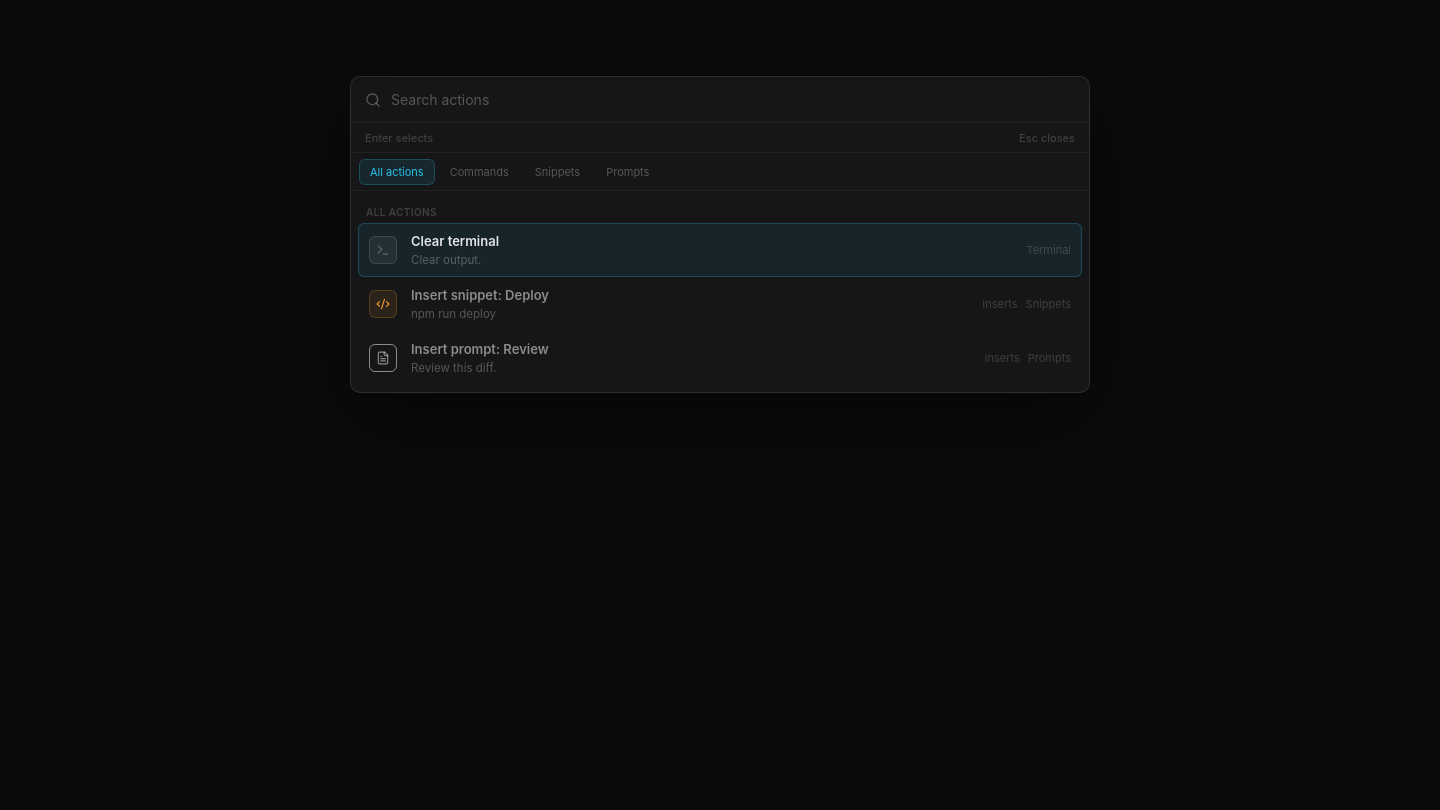
CommandPalette › filters snippets and prompts with tabs and typed prefixes
The image size is (1440, 810).
Click the tab "Snippets". click: point(558, 172)
box: [524,158,591,184]
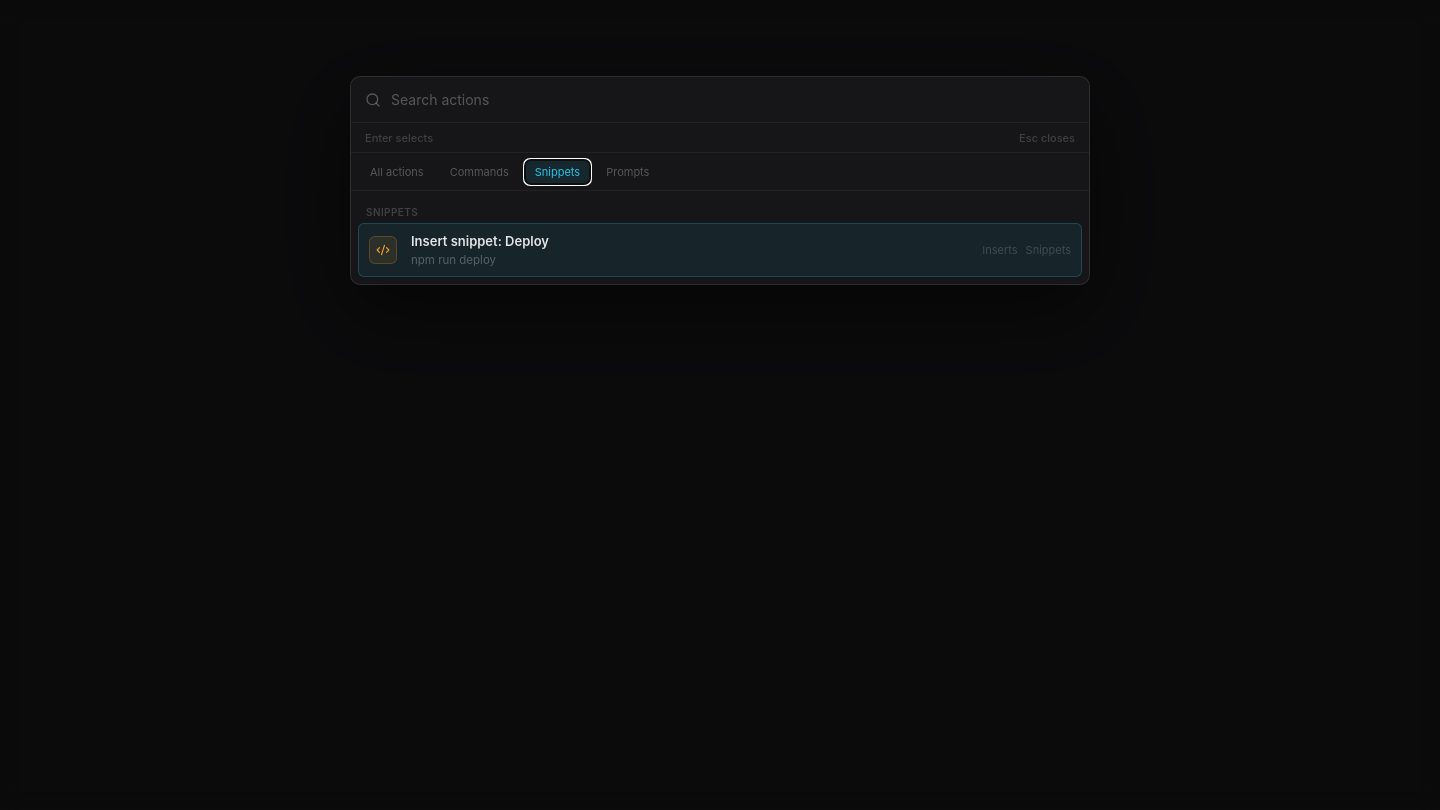
Expected: the text "Insert snippet: Deploy" is shown, [411,233,549,249]
Result: the 1st text "Snippets" is shown at [366,206,418,218]
Result: the button "Insert prompt: Review" is gone
Type "@review" into the field with placeholder "Search actions". click: point(733, 100)
box: [391,77,1075,122]
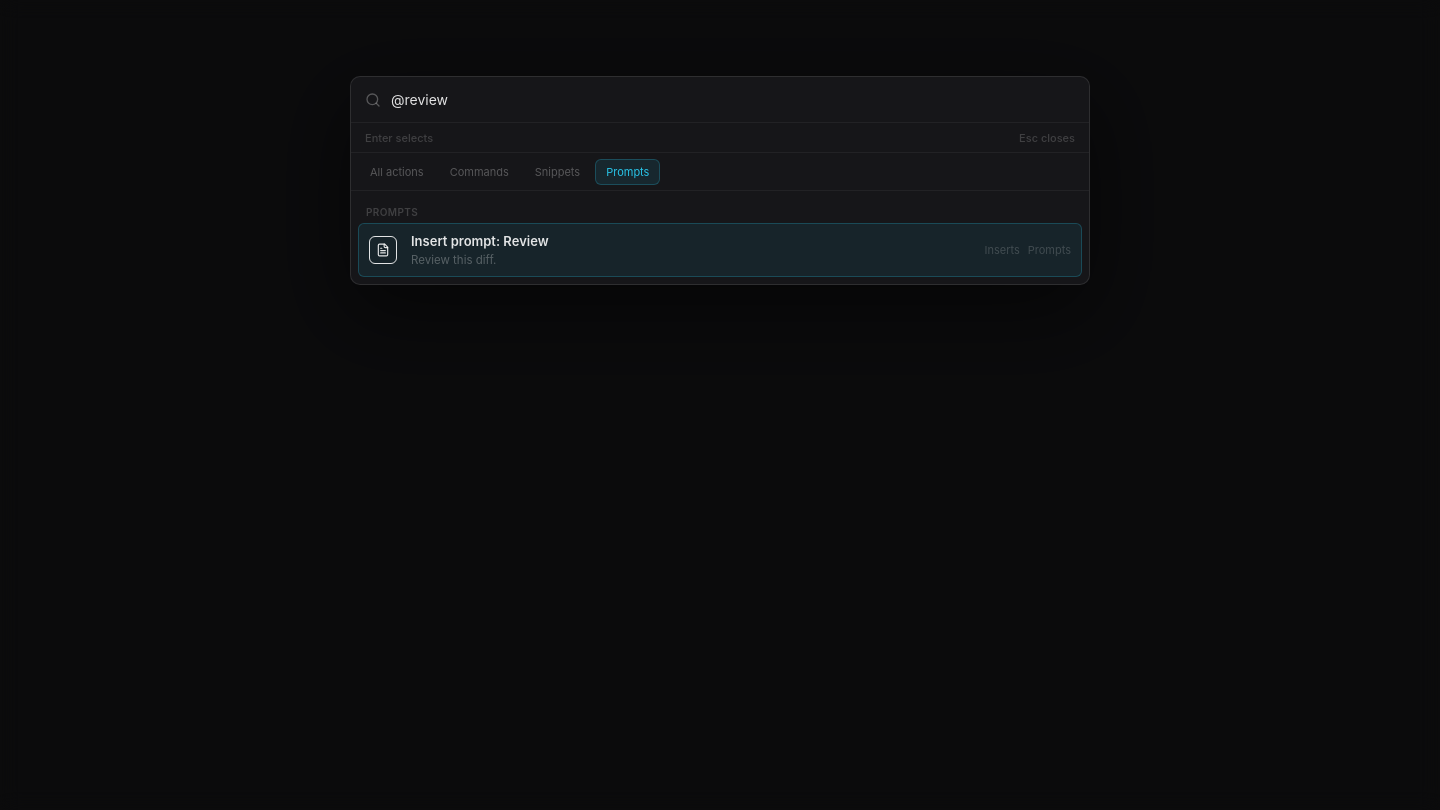
Result: the 1st text "Prompts" is shown at [366,206,418,218]
Result: the text "Insert prompt: Review" is shown at [411,233,549,249]
Result: the button "Insert snippet: Deploy" is gone
